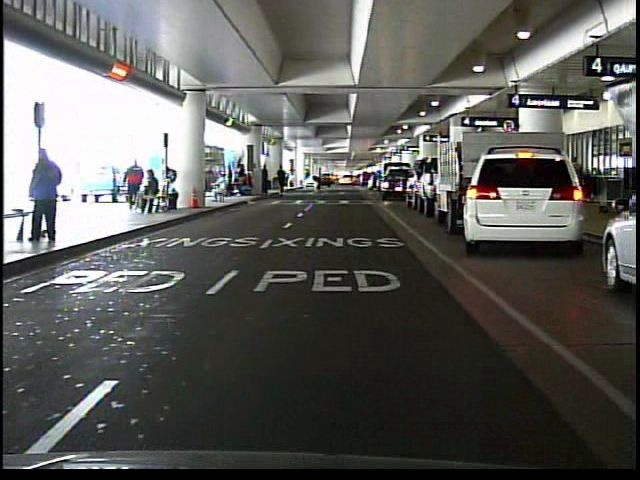person: (26, 145, 71, 251), (210, 171, 231, 206), (311, 166, 325, 196)
